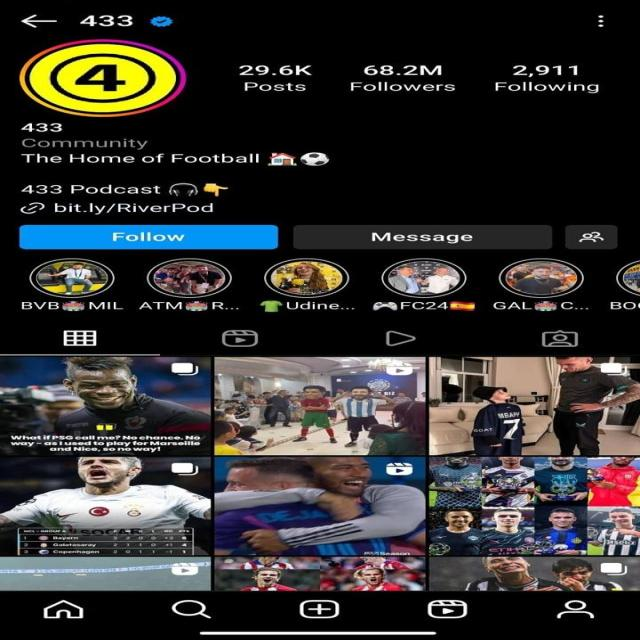Drawer: (568, 224, 618, 251), (170, 598, 215, 620), (43, 598, 84, 620), (428, 598, 469, 620), (300, 600, 340, 620), (556, 601, 596, 621), (222, 329, 260, 348), (541, 330, 579, 349), (64, 328, 97, 347), (22, 14, 61, 29), (385, 330, 417, 348), (170, 361, 200, 377), (384, 361, 416, 376), (385, 462, 413, 477), (171, 461, 200, 475), (602, 362, 629, 377), (601, 562, 628, 576), (171, 562, 200, 575), (20, 202, 50, 213), (595, 12, 609, 30)
EditText: (0, 456, 211, 557), (213, 457, 428, 556), (1, 355, 213, 454), (214, 357, 428, 455), (428, 456, 640, 554), (430, 357, 638, 455), (19, 38, 185, 116), (212, 557, 426, 591), (428, 557, 639, 591), (1, 557, 212, 589), (28, 258, 118, 298), (264, 258, 350, 299), (500, 257, 582, 299), (147, 258, 233, 298), (383, 258, 468, 298), (615, 261, 640, 296), (148, 15, 177, 28)
Icon: (54, 201, 220, 214)
Modal: (23, 153, 332, 168), (21, 182, 232, 198), (348, 64, 461, 92), (494, 64, 598, 92), (239, 64, 315, 93), (369, 298, 478, 315), (22, 137, 152, 149), (19, 298, 128, 312), (262, 298, 362, 313), (139, 300, 242, 314), (489, 301, 594, 313), (80, 14, 137, 28), (22, 121, 66, 132), (608, 299, 640, 313)
